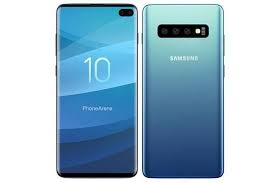samsung: (140, 1, 227, 179), (52, 1, 139, 178)
